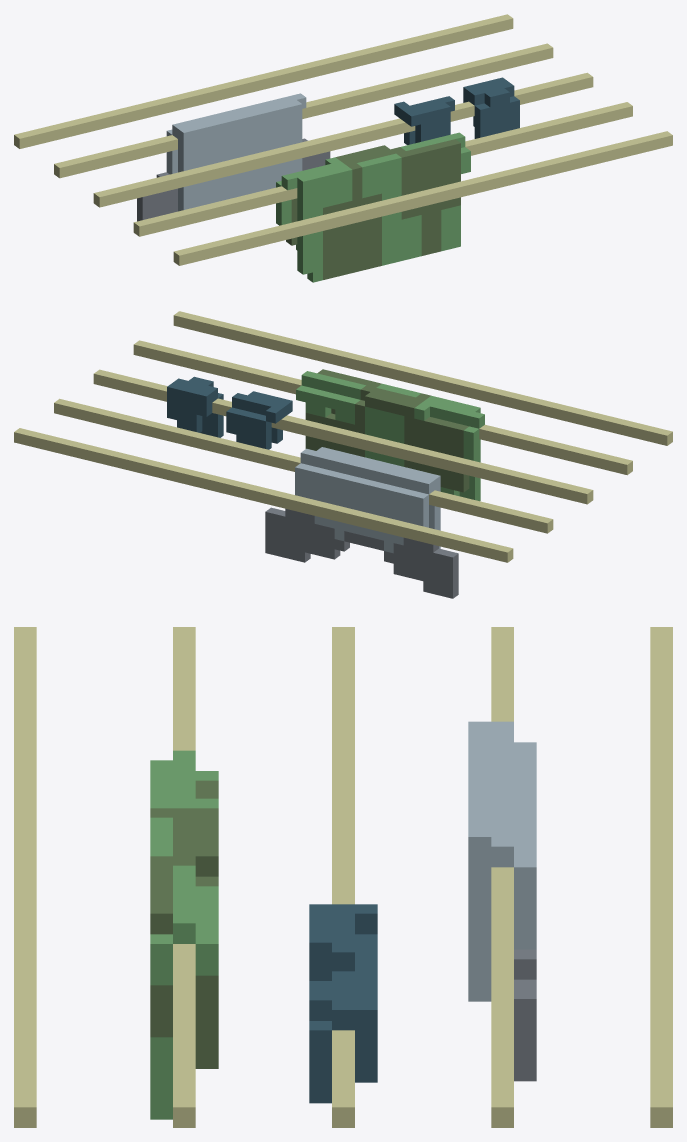
Rendered from dryer1.obj.
3 views of the same model, one above another, from view 1: azimuth 30°, elevation 25°; view 2: azimuth 150°, elevation 25°; view 3: azimuth 270°, elevation 25° (orthographic). The views are drawn at different scales.
Size of the model in its own units: 5 by 1 by 2.9.
1 material, 1 textured.
